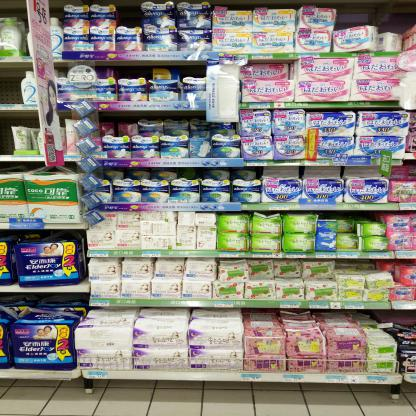Void: (340, 7, 410, 26), (2, 69, 19, 103), (118, 3, 142, 24), (2, 117, 12, 152), (117, 68, 147, 77), (182, 66, 204, 76), (357, 211, 378, 221)
